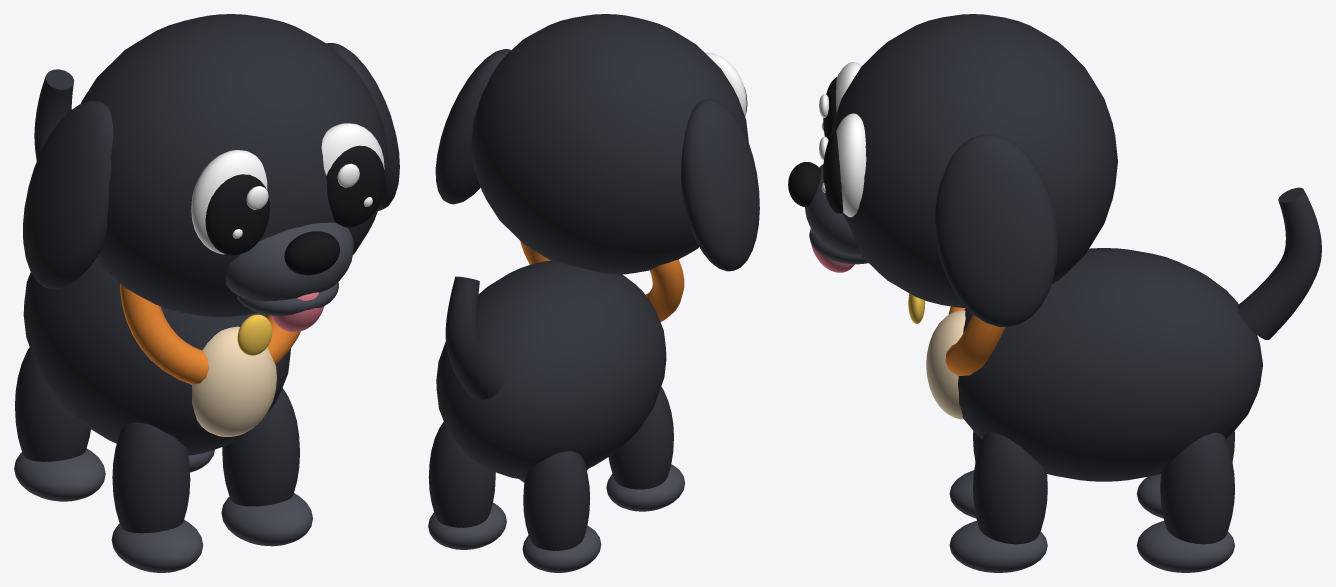
The model's file is crumb.glb.
3 views of the same model, side by side, from view 1: azimuth 30°, elevation 25°; view 2: azimuth 150°, elevation 25°; view 3: azimuth 270°, elevation 25° (orthographic). The views are drawn at different scales.
Parts seen in each view (by area): view 1: Head, Body, EarMeshR, LegFRMesh, Chest, LegFLMesh, Muzzle, LegBRMesh, Collar, PupilR, LegBRPaw, LegFLPaw (+10 smaller); view 2: Head, Body, EarMeshR, LegBRMesh, LegBLMesh, EarMeshL, Tail, LegFRMesh, LegFRPaw, LegBLPaw, LegBRPaw, Collar (+1 smaller); view 3: Body, Head, EarMeshL, LegFLMesh, LegBLMesh, Tail, LegBLPaw, LegFLPaw, Chest, EyeWhiteL, Collar, Muzzle (+5 smaller).
Part boxes in pixels (x1,y1,x2,y2): Head: [80, 14, 387, 317]; Body: [23, 260, 290, 455]; EarMeshR: [23, 101, 113, 289]; LegFRMesh: [112, 422, 190, 533]; Chest: [192, 326, 276, 436]; LegFLMesh: [222, 388, 299, 506]; Muzzle: [225, 222, 353, 301]; LegBRMesh: [15, 347, 90, 461]; Collar: [120, 284, 300, 384]; PupilR: [205, 174, 269, 255]; LegBRPaw: [14, 448, 105, 501]; LegFLPaw: [221, 493, 312, 546]; Head: [471, 14, 748, 274]; Body: [436, 260, 666, 479]; EarMeshR: [681, 98, 759, 271]; LegBRMesh: [523, 451, 589, 550]; LegBLMesh: [428, 421, 495, 527]; EarMeshL: [435, 49, 510, 204]; Tail: [445, 276, 503, 399]; LegFRMesh: [608, 386, 673, 489]; LegFRPaw: [606, 464, 684, 511]; LegBLPaw: [428, 502, 506, 549]; LegBRPaw: [522, 525, 601, 572]; Collar: [520, 241, 684, 321]; Body: [958, 248, 1262, 481]; Head: [830, 14, 1117, 308]; EarMeshL: [934, 134, 1057, 326]; LegFLMesh: [973, 432, 1047, 544]; LegBLMesh: [1160, 432, 1234, 544]; Tail: [1237, 187, 1321, 339]; LegBLPaw: [1136, 521, 1234, 572]; LegFLPaw: [949, 520, 1047, 572]; Chest: [926, 310, 965, 419]; EyeWhiteL: [836, 113, 866, 217]; Collar: [945, 306, 1005, 375]; Muzzle: [805, 164, 861, 255].
Bounding box in the file's own units: 0.8362 × 1.21 × 1.14.
